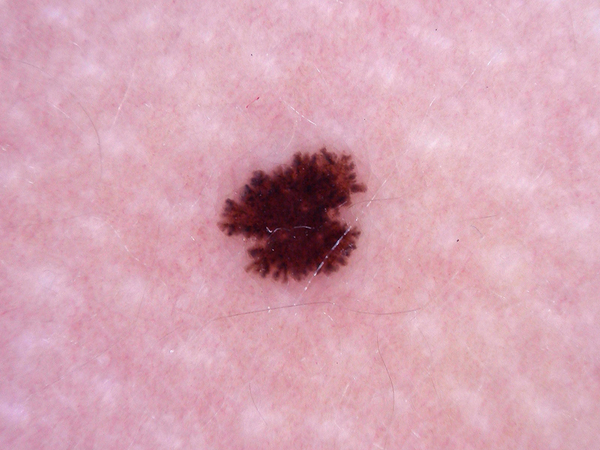Detected Lesion: (211, 144, 370, 290)
